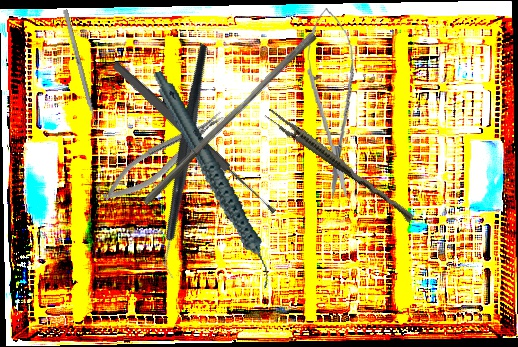Chopper: (89, 41, 287, 282)
Handpiece: (152, 56, 275, 303)
Micro Scissor: (301, 6, 365, 199)
Needle Holder: (95, 105, 233, 210)
Pusher: (141, 25, 318, 213), (62, 9, 102, 138)
Surgical Spoon: (110, 59, 279, 218)
Tissue Forceps: (261, 106, 419, 224)
